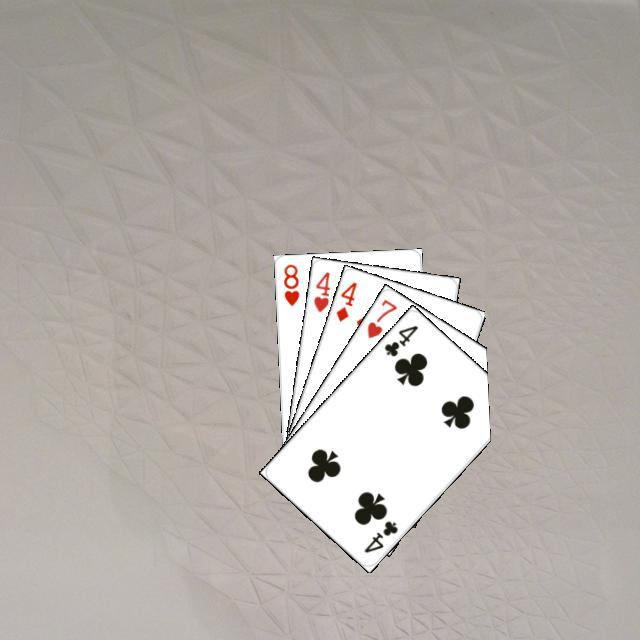4c: (359, 516, 400, 555), (379, 320, 420, 358)
4d: (331, 277, 359, 323)
4h: (309, 267, 332, 314)
7h: (362, 294, 399, 340)
8h: (279, 259, 301, 307)
